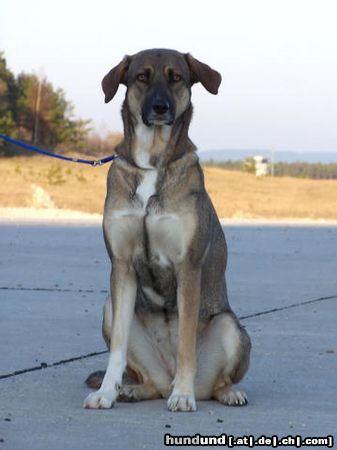kangal: (84, 47, 251, 413)
